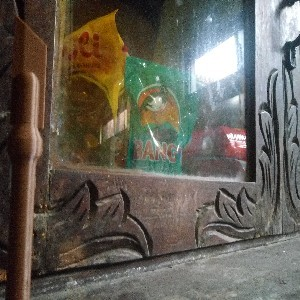cutter: (4, 12, 49, 300)
